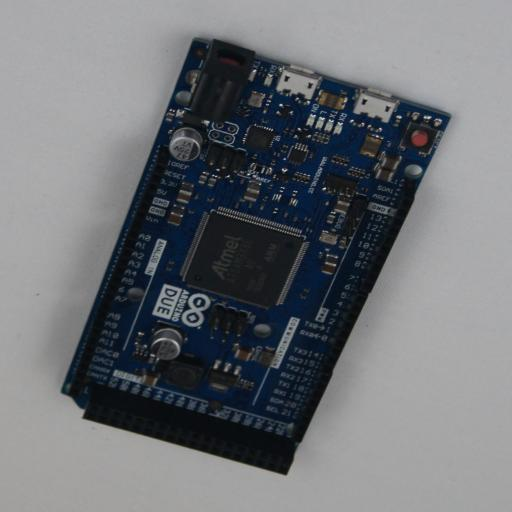Arduino Due: (61, 37, 451, 475)
